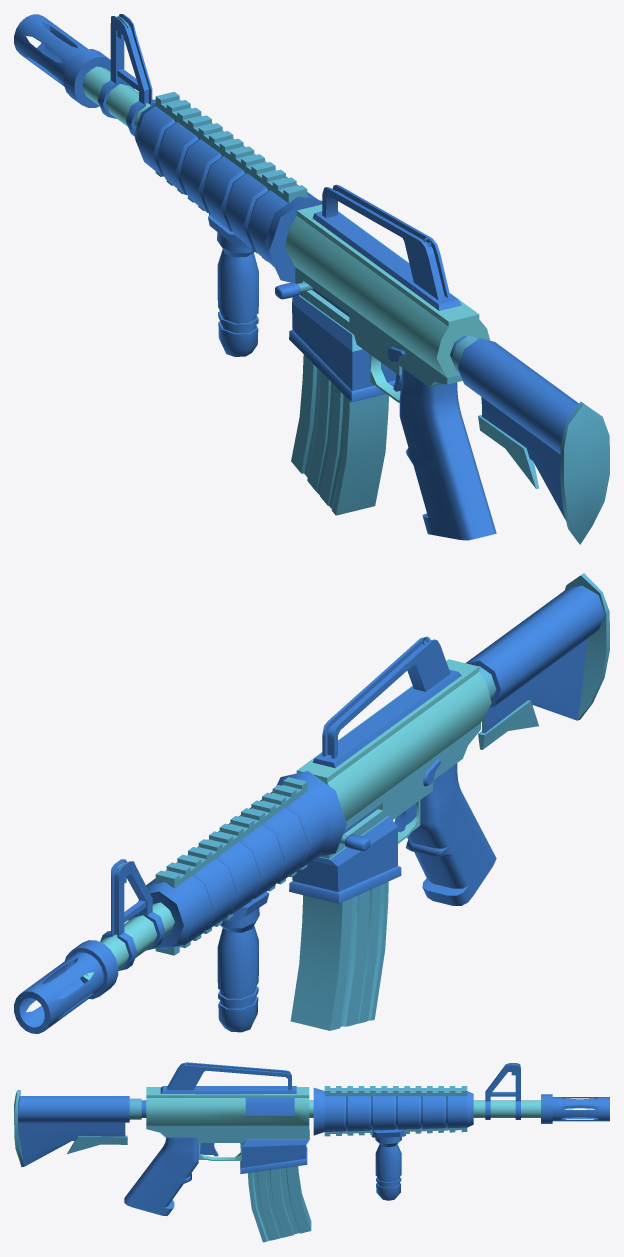
The model's file is SM_Toy_Assault_Riffle.fbx.
3 renders of one model, top to bottom at view 1: azimuth 30°, elevation 25°; view 2: azimuth 150°, elevation 25°; view 3: azimuth 270°, elevation 25°, orthographic. The views are drawn at different scales.
Visible parts, largest first — view 1: SM_Toy_Assault_Riffle; view 2: SM_Toy_Assault_Riffle; view 3: SM_Toy_Assault_Riffle.
Part boxes in pixels (x1,y1,x2,y2): SM_Toy_Assault_Riffle: [14, 14, 609, 544]; SM_Toy_Assault_Riffle: [14, 573, 609, 1033]; SM_Toy_Assault_Riffle: [14, 1062, 609, 1242].
Size of the model in its own units: 82.78 by 308 by 951.
